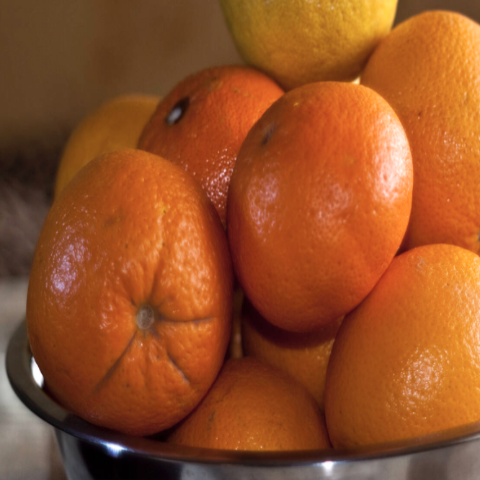orange: (15, 141, 238, 457), (208, 31, 418, 343)
